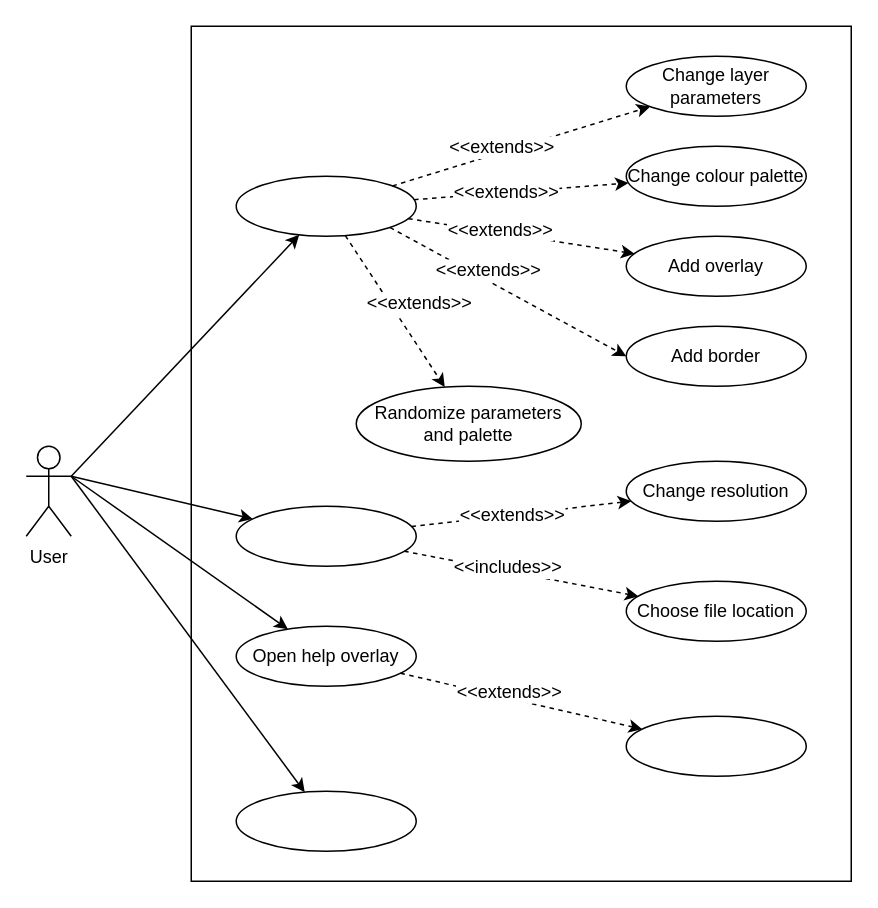
The diagram is 878 pixels wide and 908 high, and some of its shapes have lost their labels. Here are the shapes that lost their labels. From the top down, the box of each, then its label:
(235, 175, 416, 236): Generate a picture
(235, 505, 416, 566): Export a picture
(625, 715, 806, 776): Return to main UI
(235, 790, 416, 851): Change UI theme
